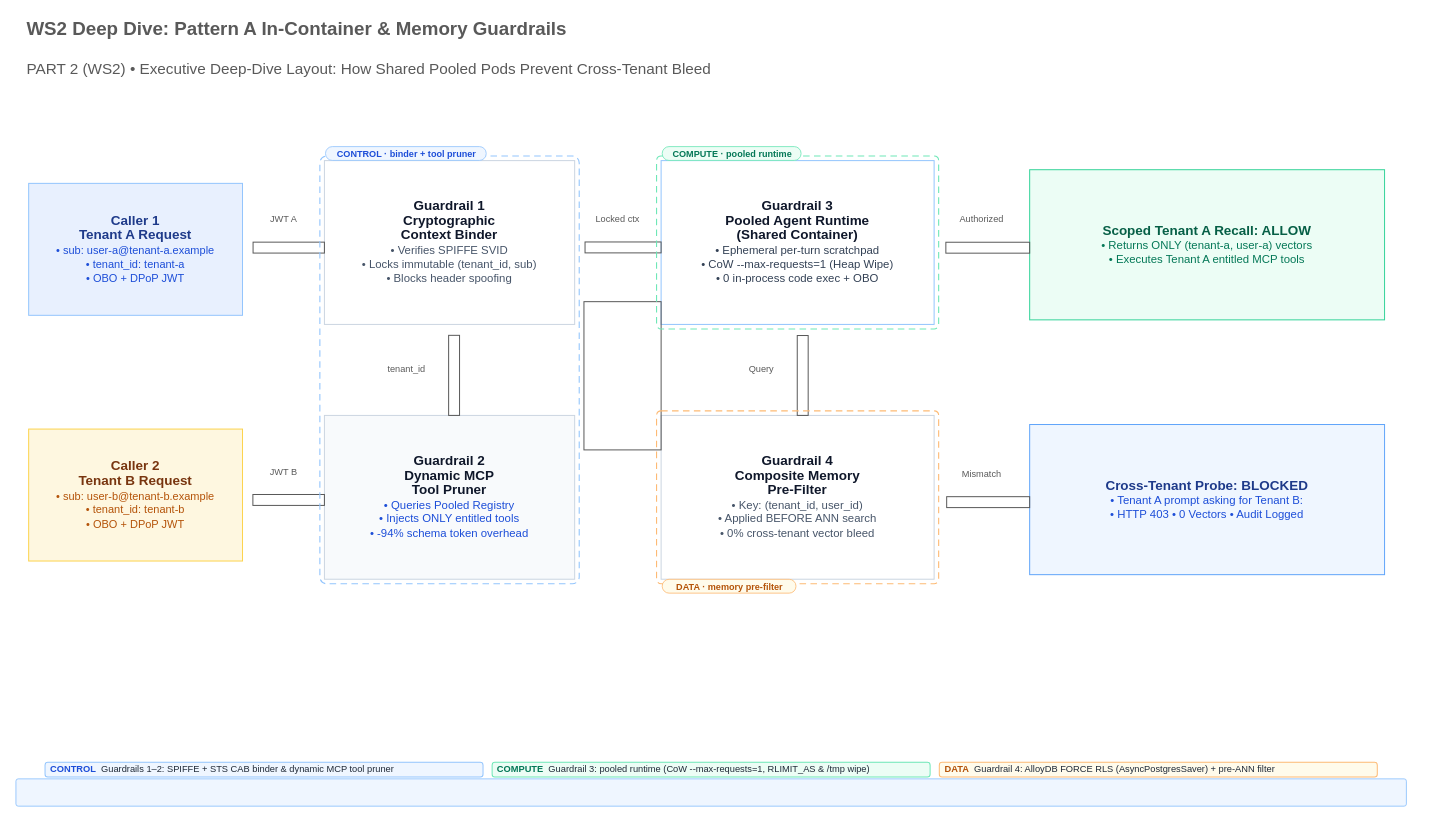
Some shapes in this 1451 by 822 pixel diagram are drawn without their labels. Each missing label, with the centre of its shape:
[Slide 18/38 • PART 2 (WS2)] • 🔗 Edit in Draw.io ↗: the point at 710,792
Pruned: the point at 622,375
